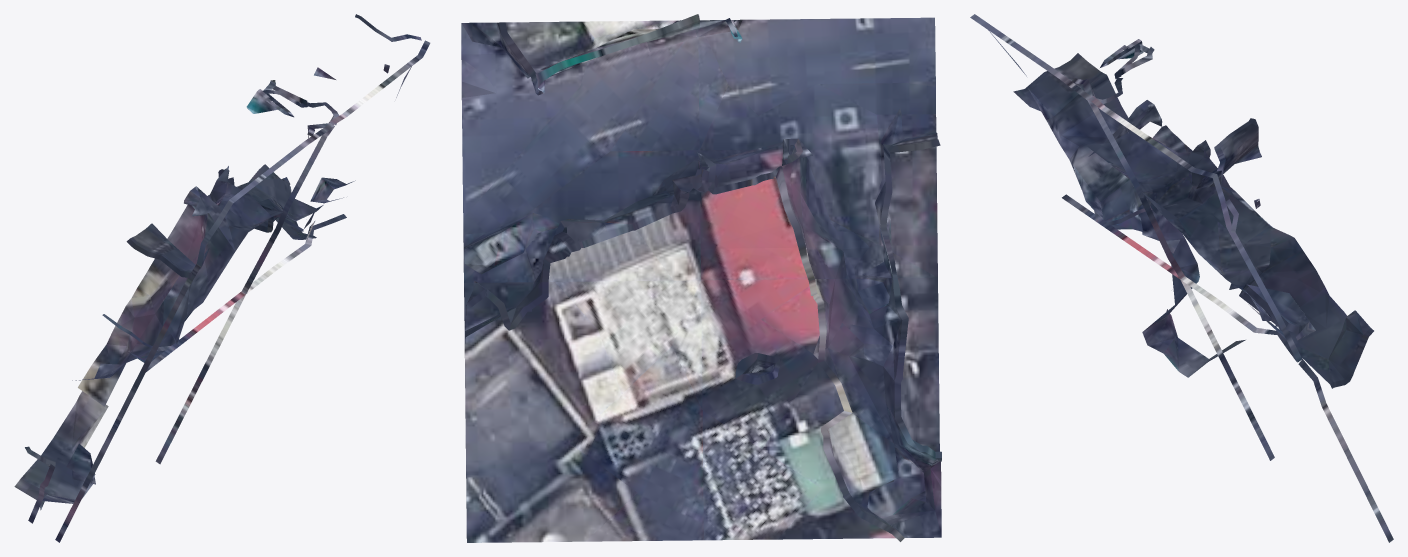
The picture shows the model from 3 angles, left to right: view 1: azimuth 30°, elevation 25°; view 2: azimuth 150°, elevation 25°; view 3: azimuth 270°, elevation 25°; orthographic projection. The views are drawn at different scales.
Bounding box in the file's own units: 39.66 × 37.57 × 32.33.
1 material, 1 textured.
